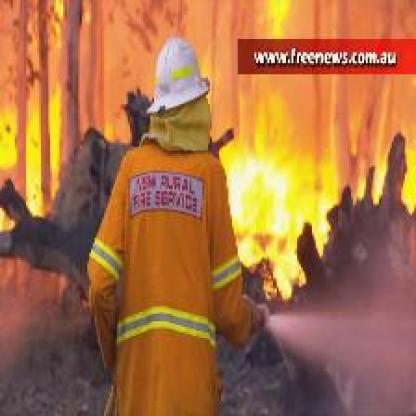fire: (197, 4, 408, 276), (2, 4, 121, 199)
